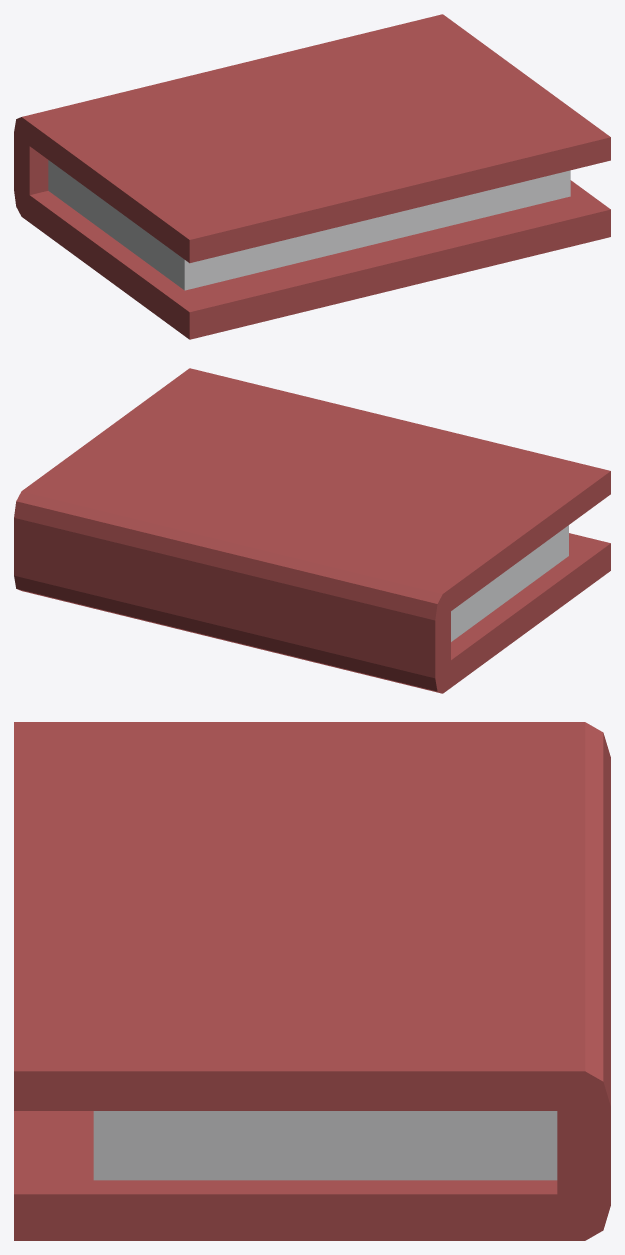
File: O_Clutter_Book_Big1.fbx
3 renders of one model, top to bottom at view 1: azimuth 30°, elevation 25°; view 2: azimuth 150°, elevation 25°; view 3: azimuth 270°, elevation 25°, orthographic. The views are drawn at different scales.
Visible parts, largest first — view 1: pCube24; view 2: pCube24; view 3: pCube24.
Boxes of the visible parts, x1=… form: pCube24: x1=14, y1=14, x2=610, y2=339; pCube24: x1=14, y1=368, x2=610, y2=693; pCube24: x1=14, y1=722, x2=610, y2=1240.
Bounding box in the file's own units: 0.7186 × 0.1627 × 0.519.
